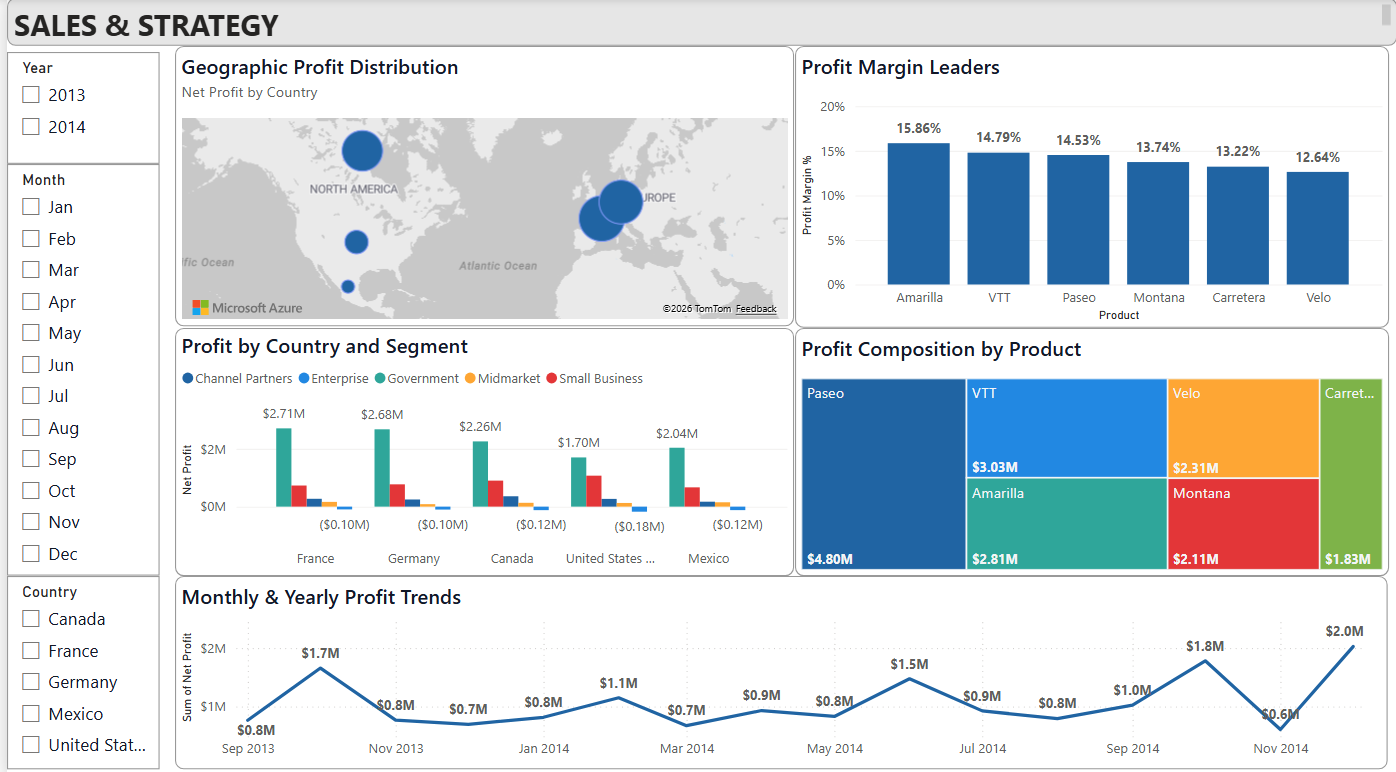

The dashboard page shown, as its layout file describes it:
{"tool":"powerbi","page":{"name":"SALES & STRATEGY ","canvas":[1280,720],"ordinal":0},"visuals":[{"type":"slicer","fields":{"Values":["Dim_Date.Year"]},"box":[0,50.6,140.4,102.9],"z":0},{"type":"lineChart","title":"Monthly & Yearly Profit Trends","fields":{"Category":["Dim_Date.Date"],"Y":["Sum(Fact_Financials.Net Profit)"]},"box":[155.1,532.2,1116.7,178],"z":2},{"type":"textbox","box":[0,0,1280,44.1],"z":3},{"type":"azureMap","title":"Geographic Profit Distribution","fields":{"Category":["Fact_Financials.Country"],"Size":["Sum(Fact_Financials.Net Profit)"]},"box":[155.1,44.1,569.8,258],"z":4},{"type":"clusteredColumnChart","title":"Profit by Country and Segment","fields":{"Category":["Fact_Financials.Country"],"Series":["Fact_Financials.Segment"],"Y":["Sum(Fact_Financials.Net Profit)"]},"box":[155.1,303.7,569.8,228.6],"z":5},{"type":"clusteredColumnChart","title":"Profit Margin Leaders","fields":{"Category":["Fact_Financials.Product"],"Y":["_Measures.Profit Margin %"]},"box":[724.9,44.1,546.9,259.6],"z":6},{"type":"treemap","title":"Profit Composition by Product","fields":{"Group":["Fact_Financials.Product"],"Values":["Sum(Fact_Financials.Net Profit)"]},"box":[724.9,303.7,546.9,228.6],"z":7},{"type":"slicer","fields":{"Values":["Dim_Date.Month"]},"box":[0,153.5,140.4,378.8],"z":8},{"type":"slicer","fields":{"Values":["Fact_Financials.Country"]},"box":[0,532.2,140.4,178],"z":9}]}

Visuals, with their boxes in screenshot pixels (x1, y1, x2, y2), scaled from the page's 1280x720 canvas onto the 1396x772 screenshot:
slicer - Dim_Date.Year: left=0, top=54, right=153, bottom=165
"Monthly & Yearly Profit Trends" lineChart: left=169, top=571, right=1387, bottom=761
textbox: left=0, top=0, right=1395, bottom=47
"Geographic Profit Distribution" azureMap: left=169, top=47, right=791, bottom=324
"Profit by Country and Segment" clusteredColumnChart: left=169, top=326, right=791, bottom=571
"Profit Margin Leaders" clusteredColumnChart: left=791, top=47, right=1387, bottom=326
"Profit Composition by Product" treemap: left=791, top=326, right=1387, bottom=571
slicer - Dim_Date.Month: left=0, top=165, right=153, bottom=571
slicer - Fact_Financials.Country: left=0, top=571, right=153, bottom=761
